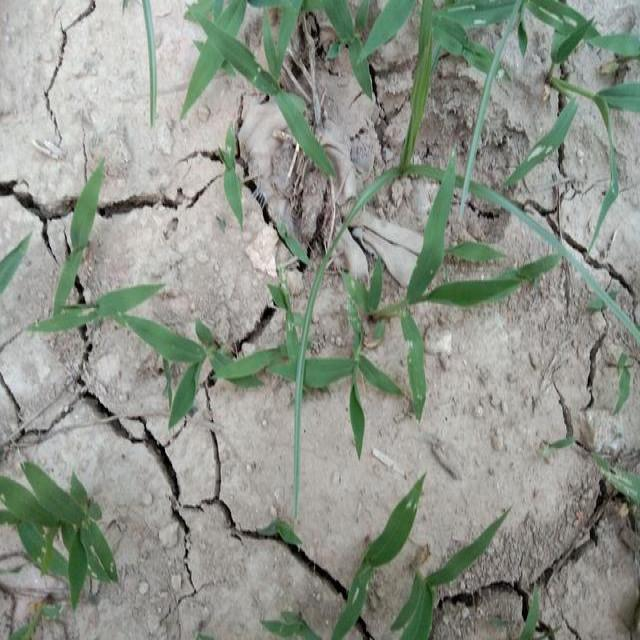weed: (193, 0, 640, 129), (118, 323, 440, 432), (386, 163, 522, 326), (349, 492, 496, 640), (51, 165, 151, 338), (0, 471, 112, 604)
